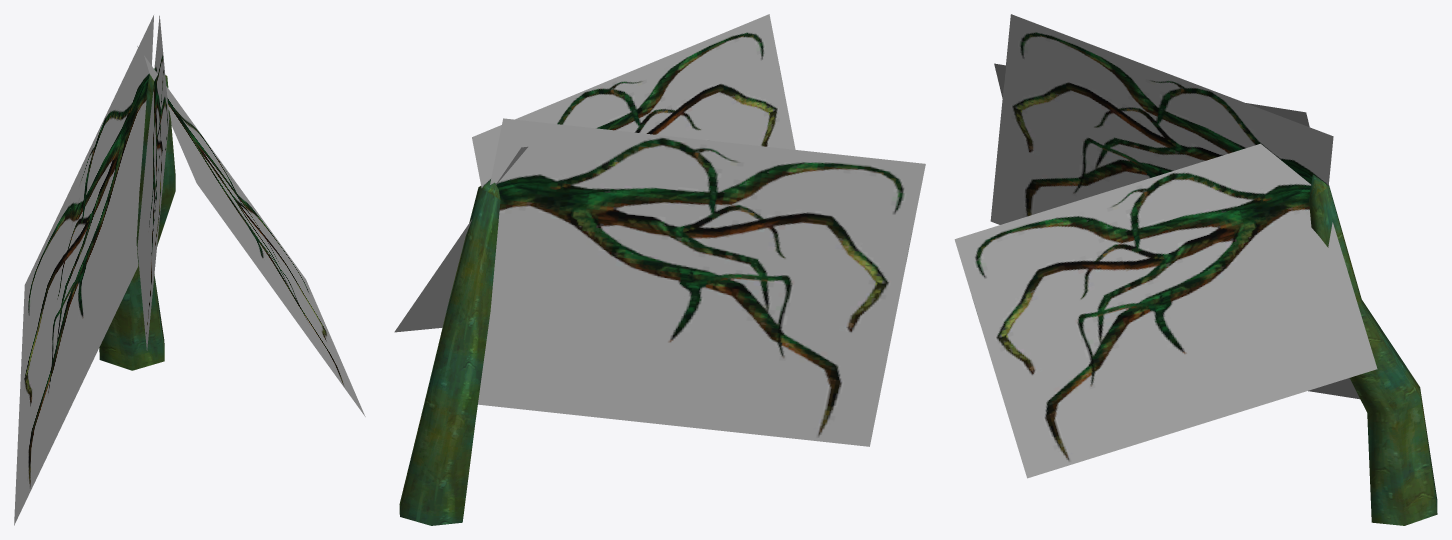
File: INST_MIRK_TREE_SCARYB.fbx
The picture shows the model from 3 angles, left to right: view 1: azimuth 30°, elevation 25°; view 2: azimuth 150°, elevation 25°; view 3: azimuth 270°, elevation 25°; orthographic projection. The views are drawn at different scales.
Parts seen in each view (by area): view 1: INST_MIRK_TREE_SCARYB; view 2: INST_MIRK_TREE_SCARYB; view 3: INST_MIRK_TREE_SCARYB.
Boxes of the visible parts, x1,y1,x2,y2 form: INST_MIRK_TREE_SCARYB: (14, 15, 365, 525); INST_MIRK_TREE_SCARYB: (394, 14, 925, 525); INST_MIRK_TREE_SCARYB: (954, 14, 1437, 525).
Size of the model in its own units: 129869 by 143454 by 147941.
2 materials, 2 textured.
